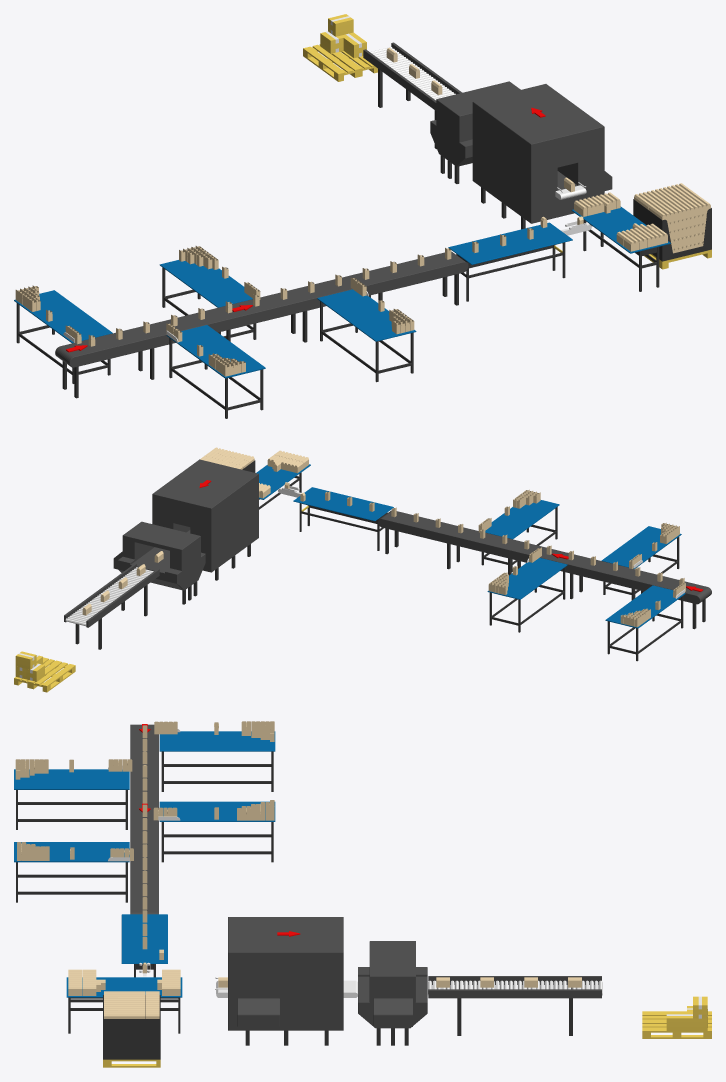
Rendered from assembly_line.glb.
The picture shows the model from 3 angles, top to bottom: view 1: azimuth 30°, elevation 25°; view 2: azimuth 150°, elevation 25°; view 3: azimuth 270°, elevation 25°; orthographic projection. The views are drawn at different scales.
Visible parts, largest first — view 1: assembly_Material #20_0, assembly_Material #19_0, assembly_Material #12_0, assembly_Material #11_0, assembly_Material #1_0, assembly_Material #24_0; view 2: assembly_Material #20_0, assembly_Material #19_0, assembly_Material #12_0, assembly_Material #11_0, assembly_Material #1_0, assembly_Material #24_0; view 3: assembly_Material #20_0, assembly_Material #19_0, assembly_Material #12_0, assembly_Material #11_0, assembly_Material #1_0, assembly_Material #24_0.
Part boxes in pixels (left/top/right/bottom): assembly_Material #20_0: left=55, top=42, right=612, bottom=367; assembly_Material #19_0: left=14, top=206, right=670, bottom=378; assembly_Material #12_0: left=15, top=47, right=710, bottom=376; assembly_Material #11_0: left=16, top=69, right=711, bottom=418; assembly_Material #1_0: left=303, top=14, right=711, bottom=269; assembly_Material #24_0: left=63, top=47, right=591, bottom=342; assembly_Material #20_0: left=64, top=459, right=711, bottom=627; assembly_Material #19_0: left=256, top=464, right=685, bottom=628; assembly_Material #12_0: left=82, top=447, right=685, bottom=627; assembly_Material #11_0: left=75, top=460, right=705, bottom=661; assembly_Material #1_0: left=14, top=506, right=308, bottom=692; assembly_Material #24_0: left=65, top=486, right=684, bottom=626; assembly_Material #20_0: left=130, top=724, right=601, bottom=1030; assembly_Material #19_0: left=14, top=731, right=275, bottom=997; assembly_Material #12_0: left=15, top=721, right=581, bottom=1018; assembly_Material #11_0: left=16, top=751, right=572, bottom=1059; assembly_Material #1_0: left=103, top=996, right=711, bottom=1067; assembly_Material #24_0: left=108, top=728, right=602, bottom=997.
Size of the model in its own units: 12.39 by 1.82 by 12.07.
